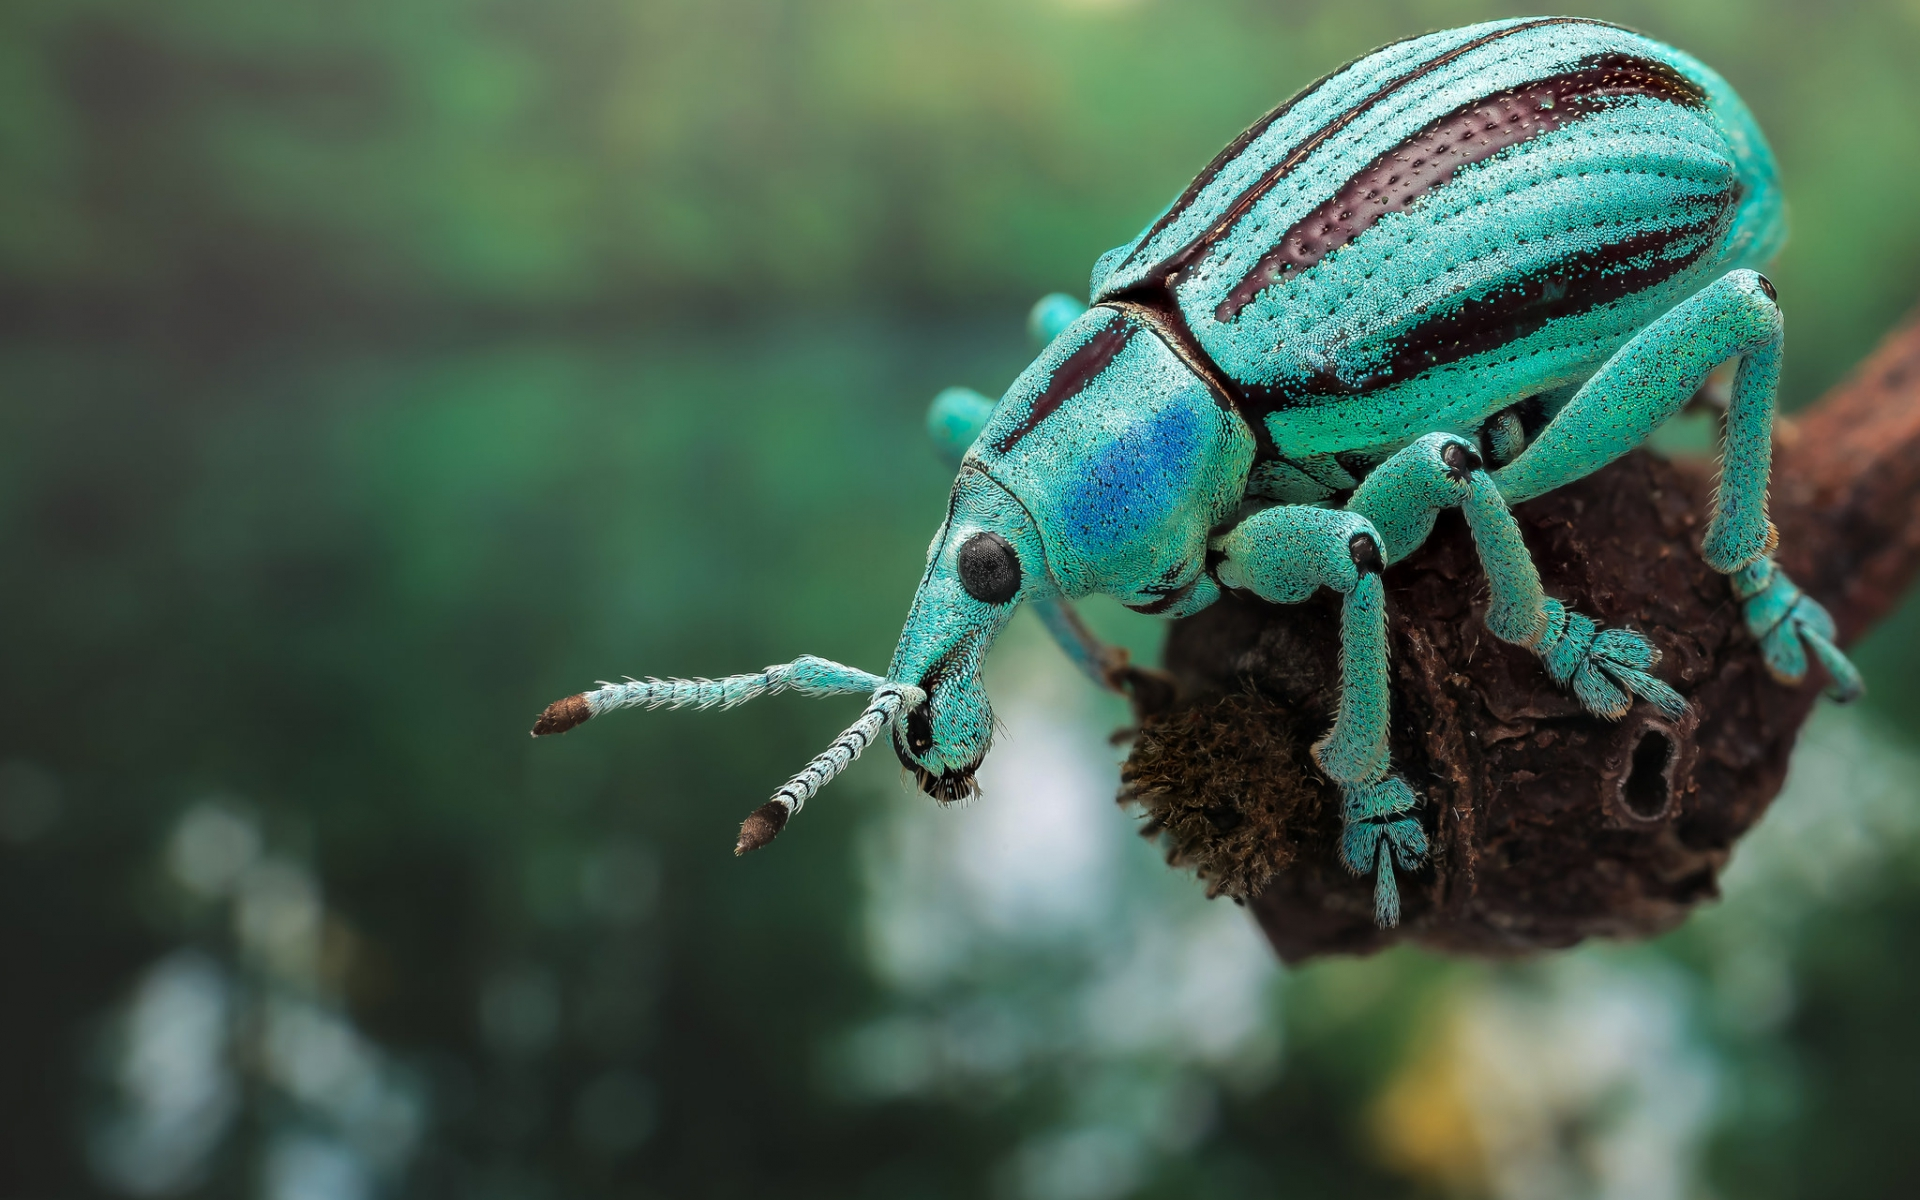dolgonosik: (503, 12, 1877, 954)
